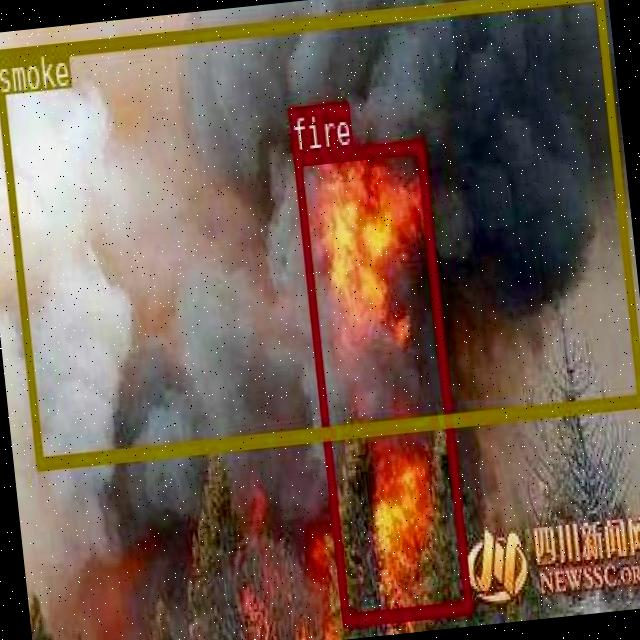fire: (292, 136, 470, 625)
smoke: (0, 0, 640, 467)
